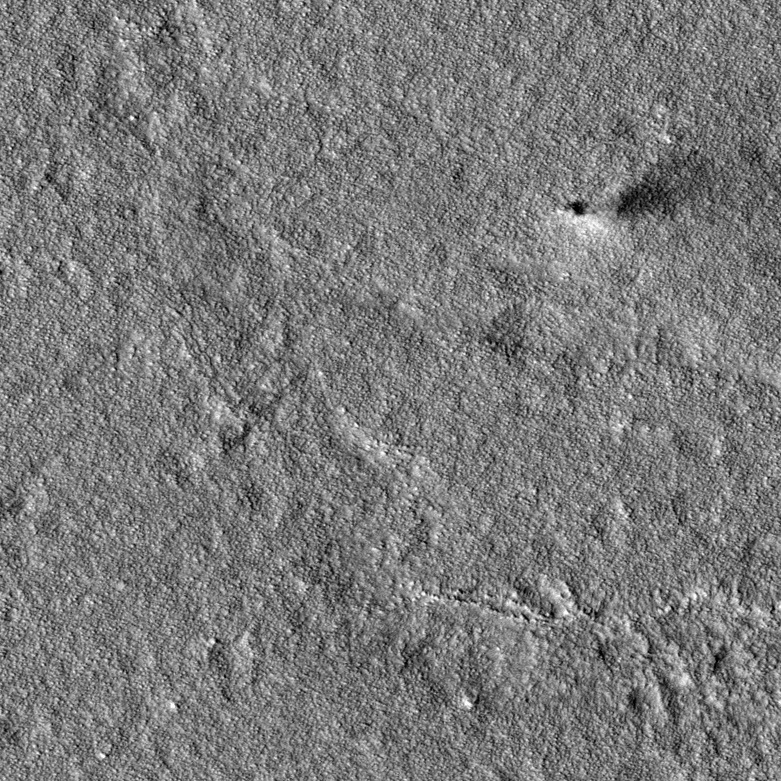dust_devil: (559, 157, 707, 241)
